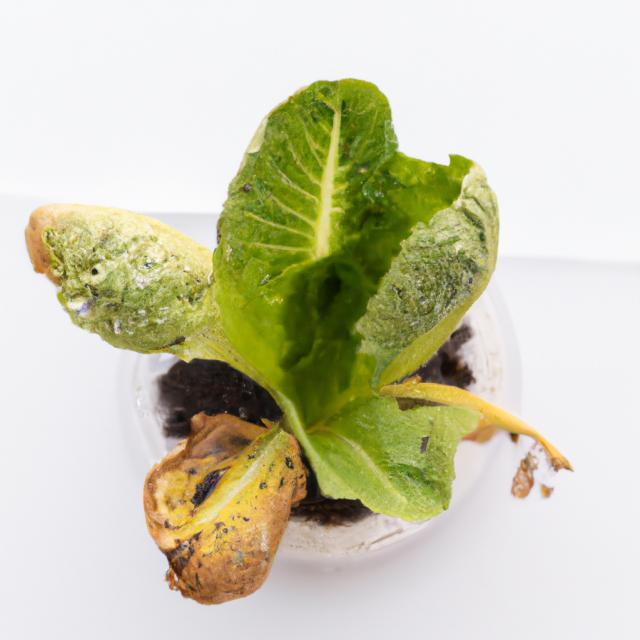-K: (14, 62, 586, 614)
